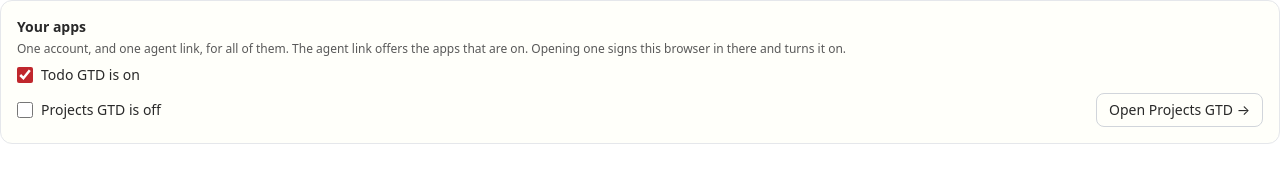
Apps › says so when a switch fails, and changes nothing
The width and height of the screenshot is (1280, 189).
Click the checkbox labelled "Projects GTD is off". click: click(25, 110)
box: [17,102,33,118]
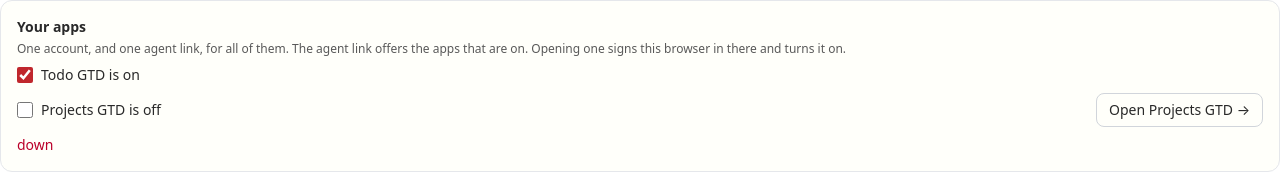
Check: the message "down" is shown, box [17,135,54,154]
